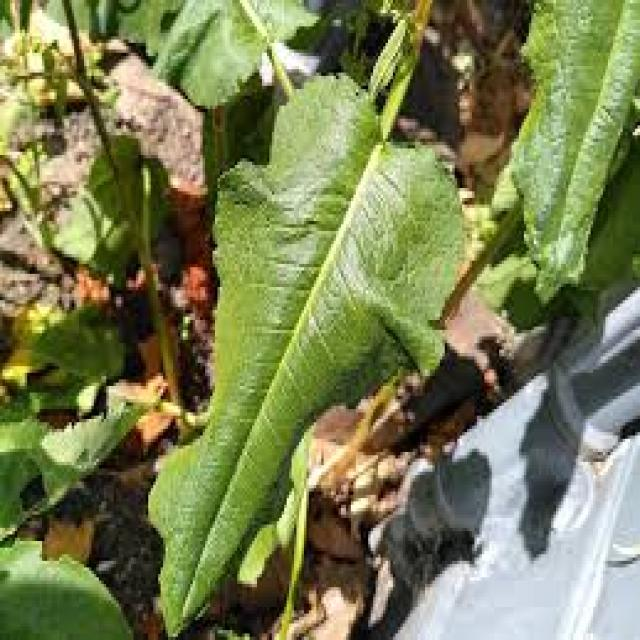organic waste: (126, 0, 492, 630)
